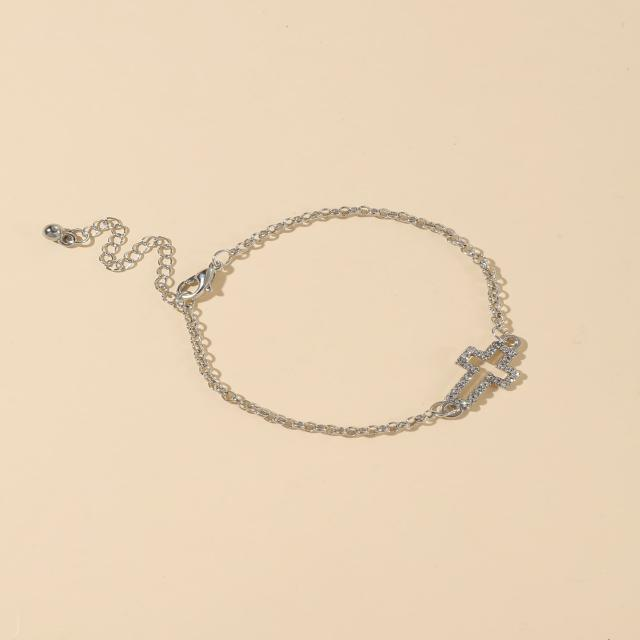bracelet: (10, 134, 599, 468)
